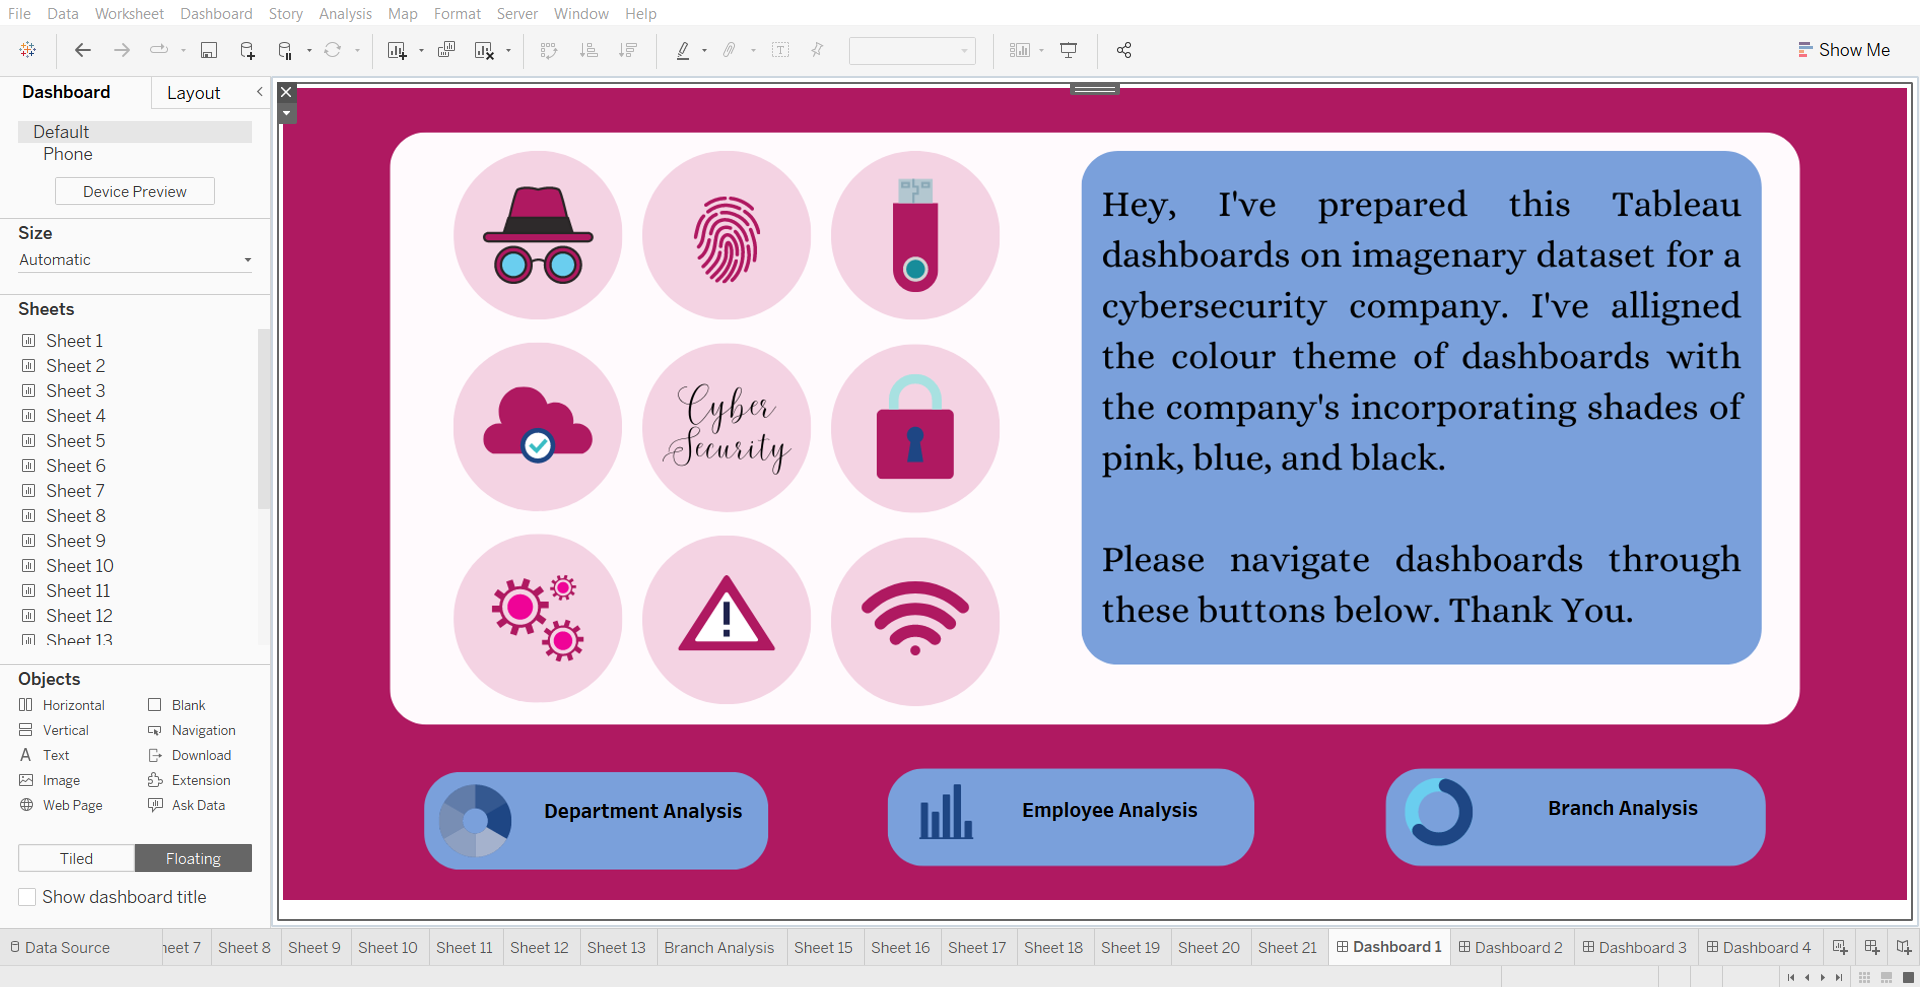

What the dashboard file says about the page in this screenshot:
{"tool":"tableau","page":{"name":"Dashboard 1","canvas":[1000,1000],"units":"permille","ordinal":0},"visuals":[{"type":"image","param":"C:/Users/Palak/Downloads/Cyber Security Analysis (7).png","box":[4.9,9.4,990.3,981.2]},{"type":"dashboard-object","box":[154.5,824.9,142.2,75.2]},{"type":"dashboard-object","box":[739.4,828.4,161.2,61.1]},{"type":"dashboard-object","box":[437.8,829.6,143.5,63.5]}]}

Visuals, with their boxes on the dashboard's canvas, which has no fixed pixel size, in thousandths of its width and height (x1, y1, x2, y2). These are canvas units, not pixel positions in the 1920x987 screenshot, which may show the page scaled, cropped or inside an application window:
image: detection(5, 9, 995, 991)
dashboard-object: detection(154, 825, 297, 900)
dashboard-object: detection(739, 828, 901, 890)
dashboard-object: detection(438, 830, 581, 893)
